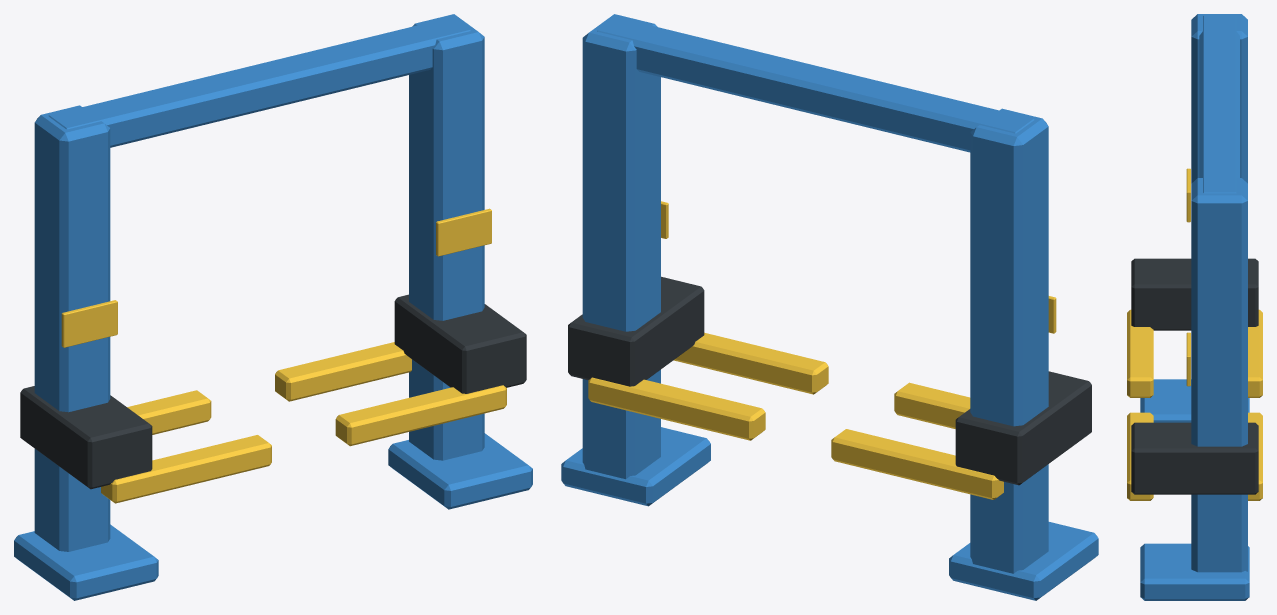
The model's file is CompactTwoPostLift.glb.
3 views of the same model, side by side, from view 1: azimuth 30°, elevation 25°; view 2: azimuth 150°, elevation 25°; view 3: azimuth 270°, elevation 25° (orthographic). The views are drawn at different scales.
Visible parts, largest first — view 1: FTF_Prop_AutoRepair_CompactTwoPostLift_StaticMesh; view 2: FTF_Prop_AutoRepair_CompactTwoPostLift_StaticMesh; view 3: FTF_Prop_AutoRepair_CompactTwoPostLift_StaticMesh.
Part boxes in pixels (x1,y1,x2,y2): FTF_Prop_AutoRepair_CompactTwoPostLift_StaticMesh: (14, 14, 532, 600); FTF_Prop_AutoRepair_CompactTwoPostLift_StaticMesh: (561, 14, 1098, 600); FTF_Prop_AutoRepair_CompactTwoPostLift_StaticMesh: (1127, 14, 1262, 600).
Bounding box in the file's own units: 2.72 × 2.49 × 0.77.
